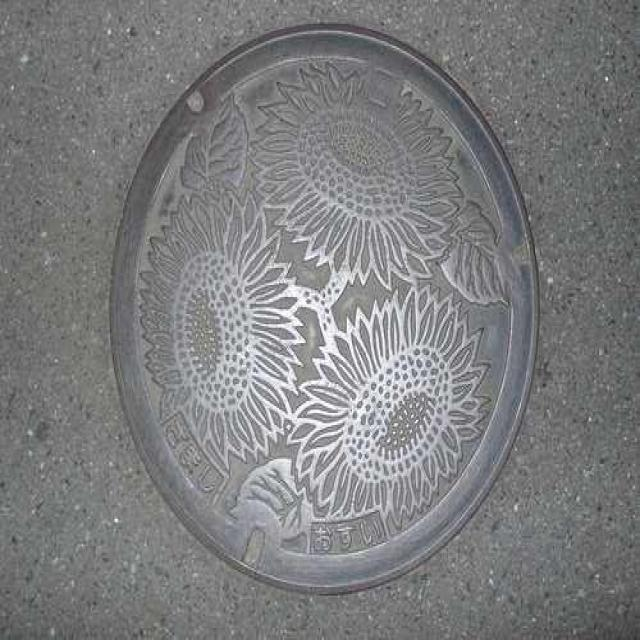manhole: (111, 25, 538, 591)
